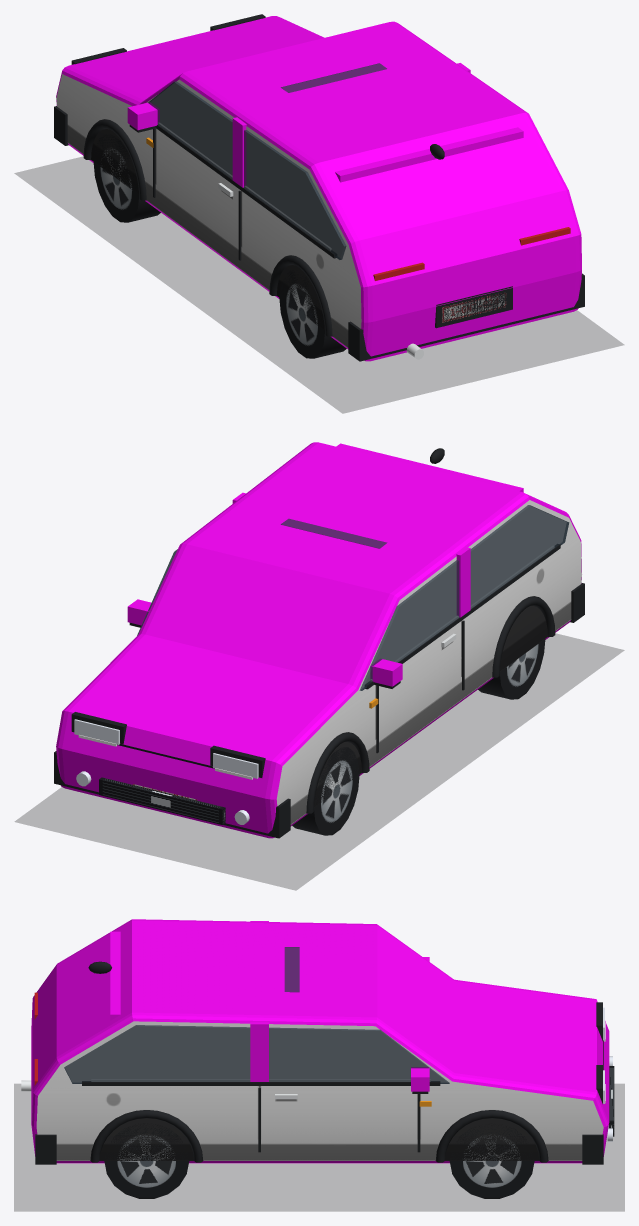
File: car-hatch.obj
3 renders of one model, top to bottom at view 1: azimuth 30°, elevation 25°; view 2: azimuth 150°, elevation 25°; view 3: azimuth 270°, elevation 25°, orthographic. The views are drawn at different scales.
Parts seen in each view (by area): view 1: body, shadowpad.nocast, part1.nocast, part12, part11, opt.spoiler, part54.nocast, part33, part40.nocast, part39.nocast, part9, part10.nocast (+4 smaller); view 2: body, shadowpad.nocast, part1.nocast, part11, part49.nocast, part12, part39.nocast, part40.nocast, part32, part9, part10.nocast, opt.spoiler (+4 smaller); view 3: body, shadowpad.nocast, part1.nocast, part14, part13, part41.nocast, part42.nocast, part10.nocast, part9, opt.spoiler, part48.nocast, opt.sunroof.nocast (+3 smaller).
Boxes of the visible parts, x1=… form: body: x1=56, y1=16, x2=581, y2=361; shadowpad.nocast: x1=14, y1=157, x2=623, y2=413; part1.nocast: x1=148, y1=81, x2=346, y2=259; part12: x1=279, y1=270, x2=346, y2=358; part11: x1=93, y1=134, x2=160, y2=222; opt.spoiler: x1=335, y1=127, x2=523, y2=182; part54.nocast: x1=435, y1=286, x2=512, y2=328; part33: x1=348, y1=273, x2=584, y2=361; part40.nocast: x1=269, y1=255, x2=332, y2=336; part39.nocast: x1=83, y1=119, x2=146, y2=200; part9: x1=232, y1=63, x2=470, y2=187; part10.nocast: x1=156, y1=125, x2=336, y2=258; body: x1=56, y1=442, x2=581, y2=838; shadowpad.nocast: x1=15, y1=633, x2=624, y2=890; part1.nocast: x1=137, y1=505, x2=569, y2=690; part11: x1=292, y1=747, x2=359, y2=835; part49.nocast: x1=99, y1=777, x2=225, y2=824; part12: x1=478, y1=639, x2=545, y2=699; part39.nocast: x1=306, y1=732, x2=369, y2=813; part40.nocast: x1=492, y1=596, x2=555, y2=677; part32: x1=54, y1=751, x2=290, y2=838; part9: x1=232, y1=492, x2=470, y2=617; part10.nocast: x1=365, y1=544, x2=560, y2=689; opt.spoiler: x1=336, y1=443, x2=523, y2=492; body: x1=31, y1=919, x2=609, y2=1163; shadowpad.nocast: x1=14, y1=1084, x2=624, y2=1211; part1.nocast: x1=64, y1=1025, x2=449, y2=1083; part14: x1=104, y1=1123, x2=189, y2=1198; part13: x1=449, y1=1123, x2=534, y2=1198; part41.nocast: x1=435, y1=1110, x2=548, y2=1162; part42.nocast: x1=90, y1=1110, x2=203, y2=1162; part10.nocast: x1=82, y1=1081, x2=440, y2=1085; part9: x1=250, y1=921, x2=268, y2=1081; opt.spoiler: x1=110, y1=931, x2=120, y2=1020; part48.nocast: x1=91, y1=1079, x2=430, y2=1081; opt.sunroof.nocast: x1=284, y1=947, x2=299, y2=992.
Bounding box in the file's own units: 2.28 × 1.56 × 4.6.
